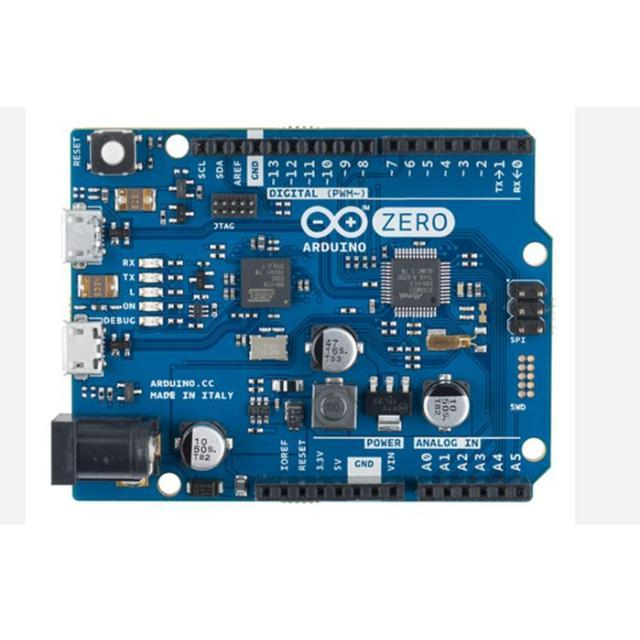Arduino-Zero: (53, 129, 554, 502)
